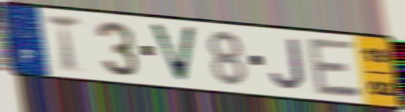3: (94, 19, 141, 78)
8: (204, 28, 250, 88)
E: (304, 36, 367, 101)
J: (268, 36, 308, 91)
T: (44, 13, 84, 75)
V: (146, 21, 199, 85)
